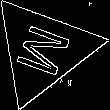M_E: (9, 19, 76, 81)
